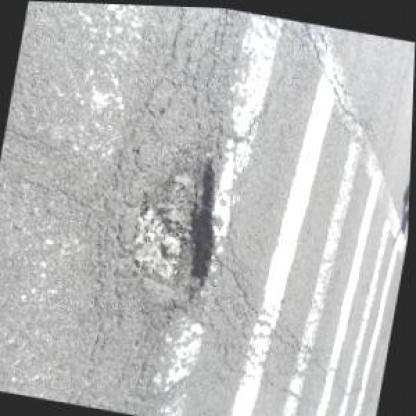pothole: (115, 135, 236, 334)
